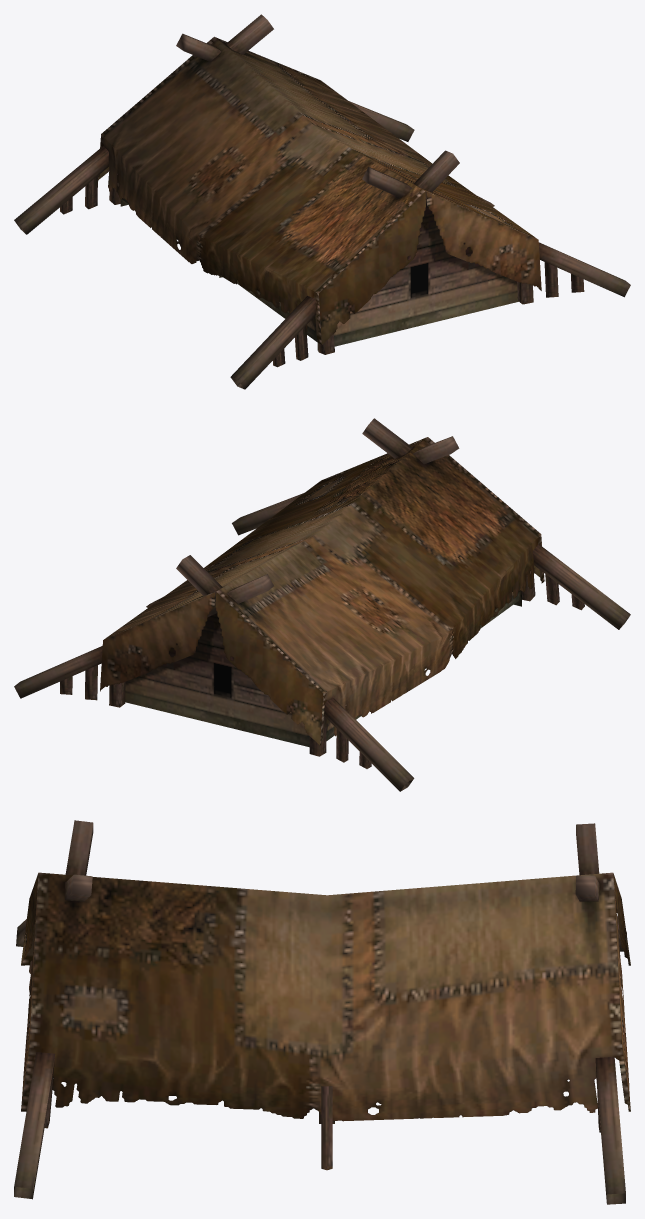
File: stbuho7.obj
The picture shows the model from 3 angles, top to bottom: view 1: azimuth 30°, elevation 25°; view 2: azimuth 150°, elevation 25°; view 3: azimuth 270°, elevation 25°; orthographic projection. The views are drawn at different scales.
Parts seen in each view (by area): view 1: humanhouse01_geom; view 2: humanhouse01_geom; view 3: humanhouse01_geom.
Boxes of the visible parts, x1=… form: humanhouse01_geom: x1=14, y1=14, x2=630, y2=389; humanhouse01_geom: x1=14, y1=418, x2=630, y2=791; humanhouse01_geom: x1=14, y1=820, x2=630, y2=1204.
Size of the model in its own units: 6.31 by 2.61 by 6.29.
